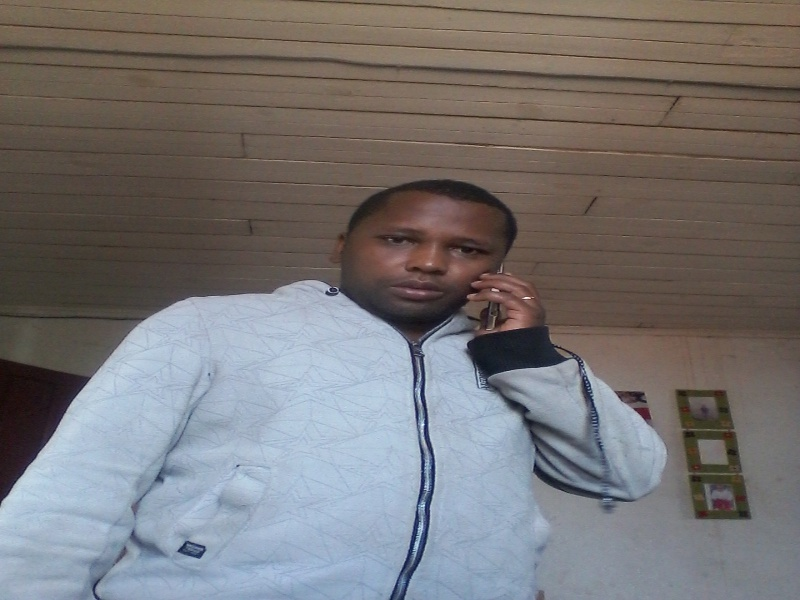TsisyArotava: (334, 168, 516, 311)
